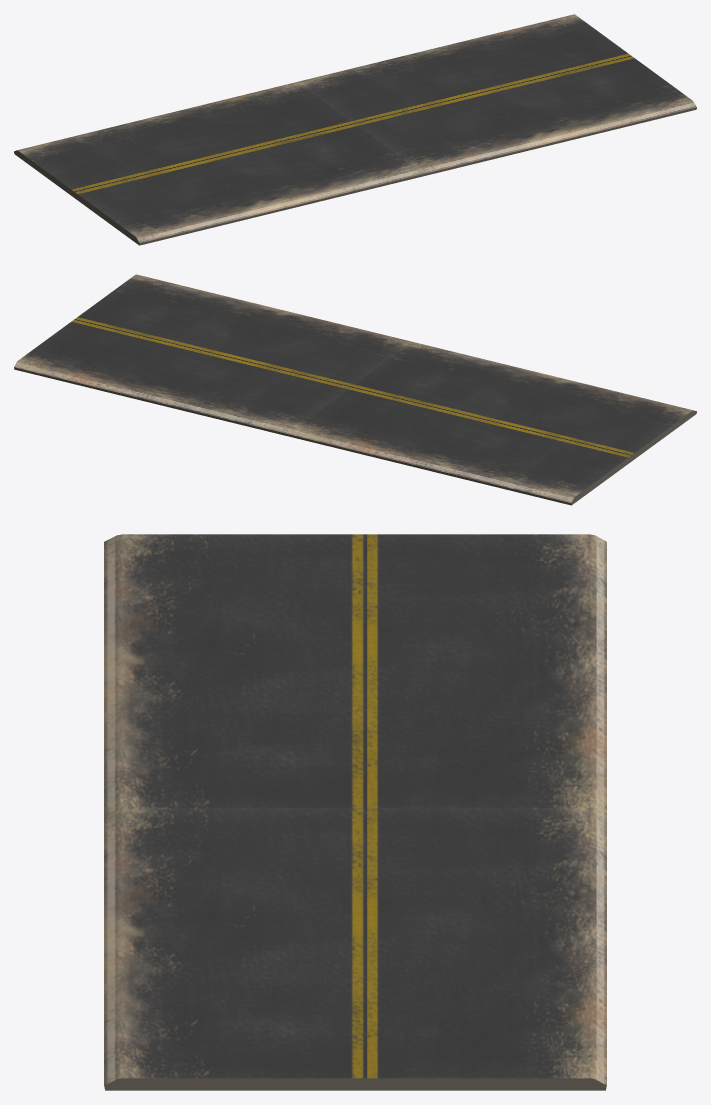
File: Road2.fbx
The picture shows the model from 3 angles, top to bottom: view 1: azimuth 30°, elevation 25°; view 2: azimuth 150°, elevation 25°; view 3: azimuth 270°, elevation 25°; orthographic projection. The views are drawn at different scales.
Visible parts, largest first — view 1: pCube2, pCube1; view 2: pCube2, pCube1; view 3: pCube1, pCube2.
Part boxes in pixels (<box>): pCube2: <box>14,82,419,245</box>; pCube1: <box>298,14,696,176</box>; pCube2: <box>291,342,696,505</box>; pCube1: <box>14,274,412,436</box>; pCube1: <box>104,808,606,1090</box>; pCube2: <box>104,534,606,814</box>.
Bounding box in the file's own units: 28.69 × 0.3018 × 11.2.
Materials: 1 (1 with a texture image).
